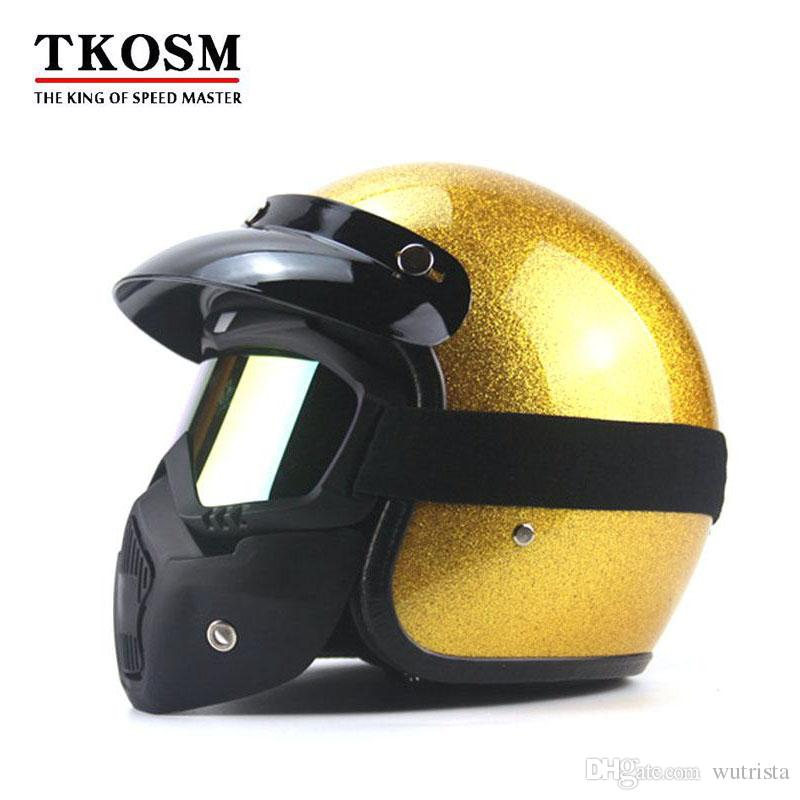with_helmet: (117, 163, 729, 696)
